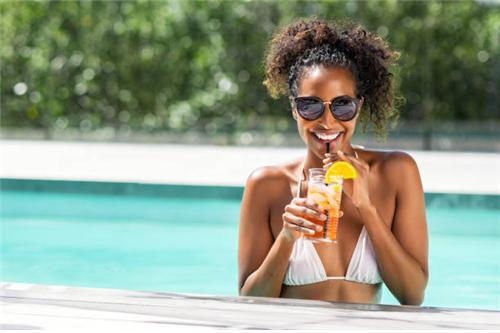alcohol: (304, 169, 344, 245)
